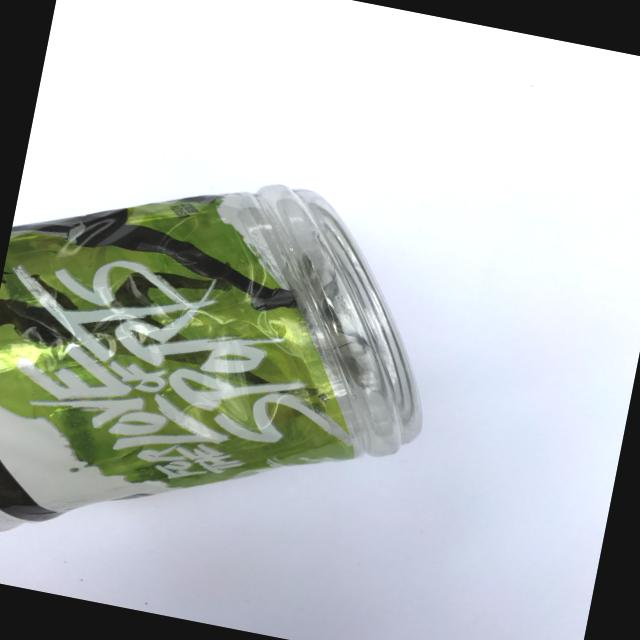Plastic: (0, 133, 463, 619)
